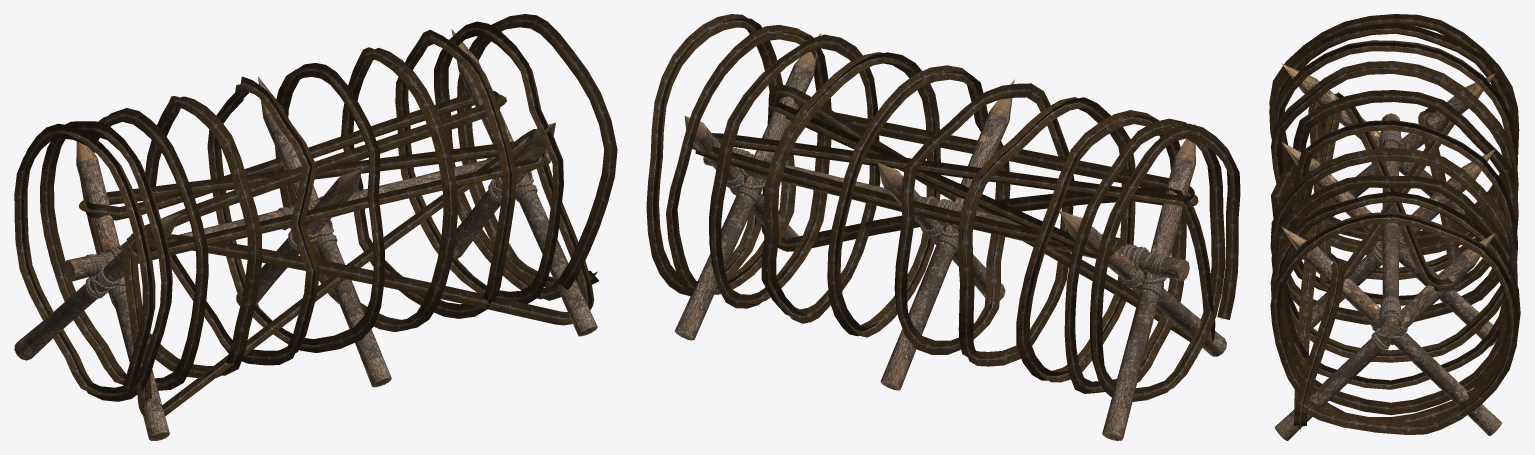
The model's file is Wood_Obstacles_01.FBX.
3 renders of one model, left to right at view 1: azimuth 30°, elevation 25°; view 2: azimuth 150°, elevation 25°; view 3: azimuth 270°, elevation 25°, orthographic. The views are drawn at different scales.
Visible parts, largest first — view 1: Wood_Obstacles_Wire_01, Wood_Obstacles_01; view 2: Wood_Obstacles_Wire_01, Wood_Obstacles_01; view 3: Wood_Obstacles_Wire_01, Wood_Obstacles_01.
Part boxes in pixels (x1,y1,x2,y2): Wood_Obstacles_Wire_01: (14, 14, 617, 415); Wood_Obstacles_01: (14, 29, 597, 440); Wood_Obstacles_Wire_01: (646, 14, 1240, 401); Wood_Obstacles_01: (674, 33, 1226, 440); Wood_Obstacles_Wire_01: (1269, 14, 1520, 434); Wood_Obstacles_01: (1274, 63, 1502, 440).
Size of the model in its own units: 383 by 203 by 193.
